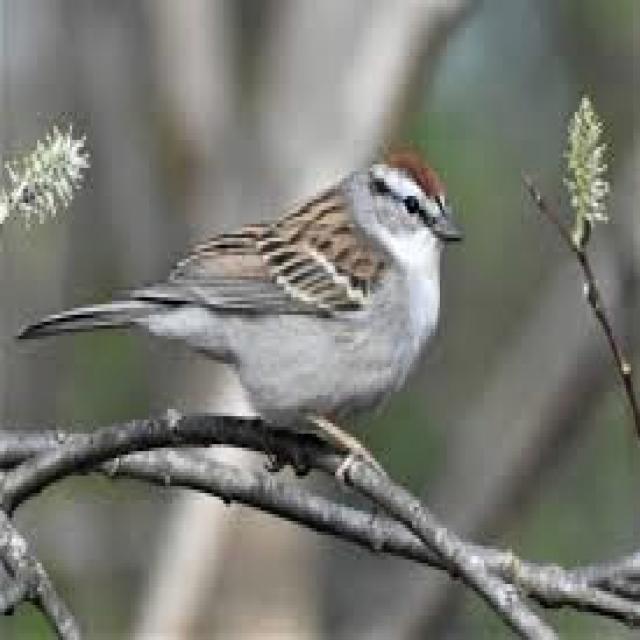sparrow: (19, 154, 458, 476)
